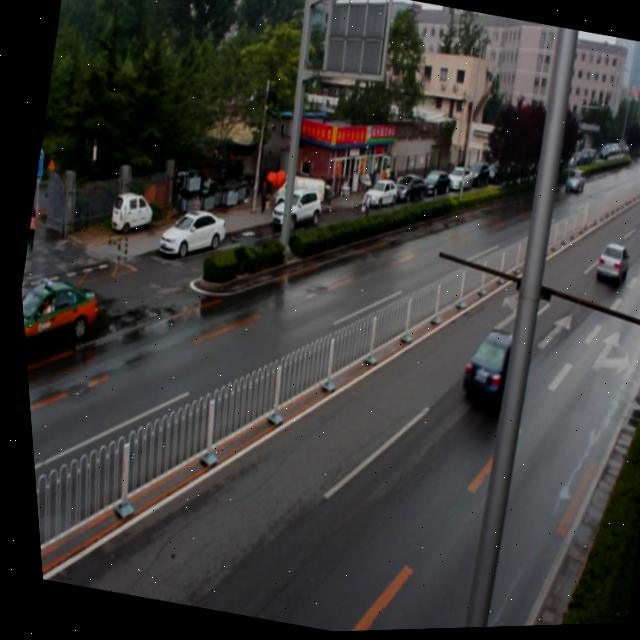car: (448, 324, 524, 412), (587, 244, 627, 289)
